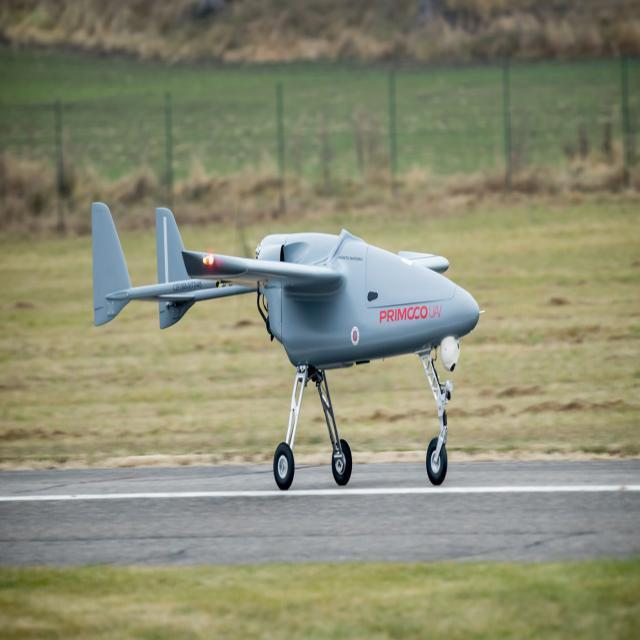iha: (72, 186, 501, 509)
